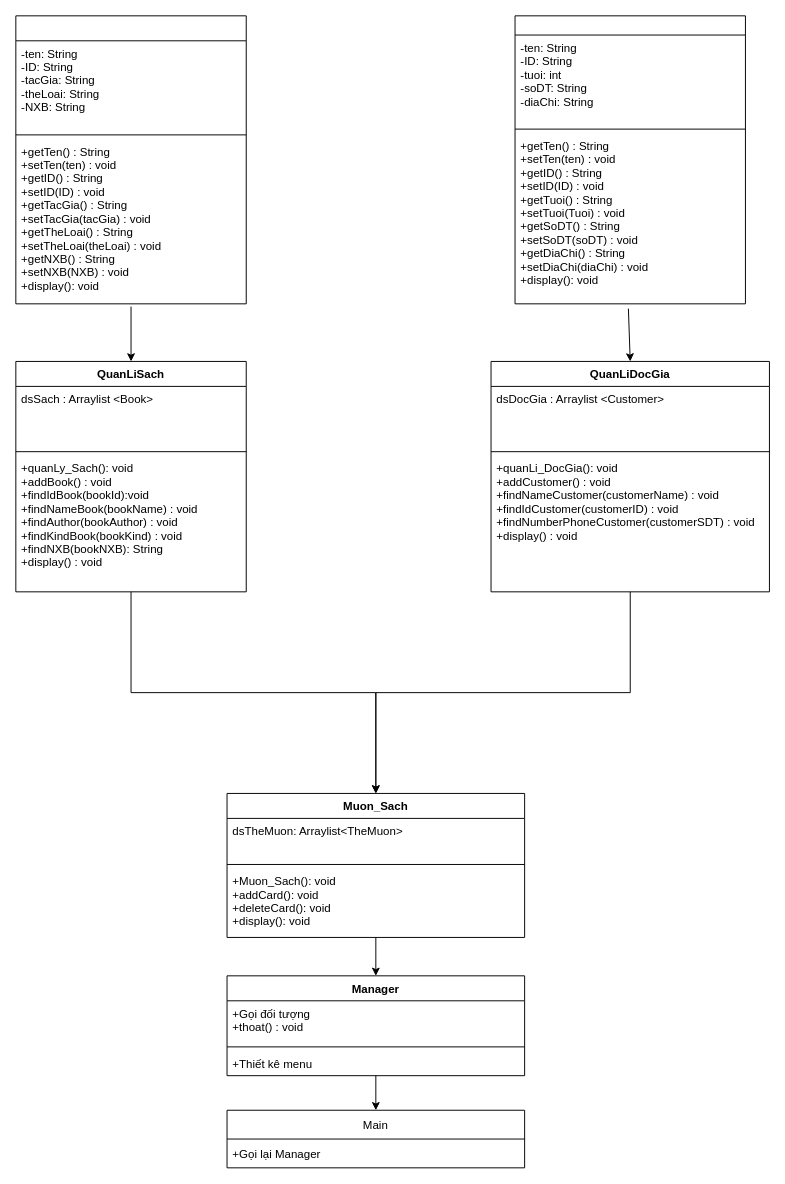
This 785x1184 diagram has some shape labels left out. The shapes that lost their labels are listed below. From the top down, each one's box as (x1, y1, x2, y2) in pixels, then its label:
(15, 15, 246, 304): Book
(514, 15, 745, 304): Customer
